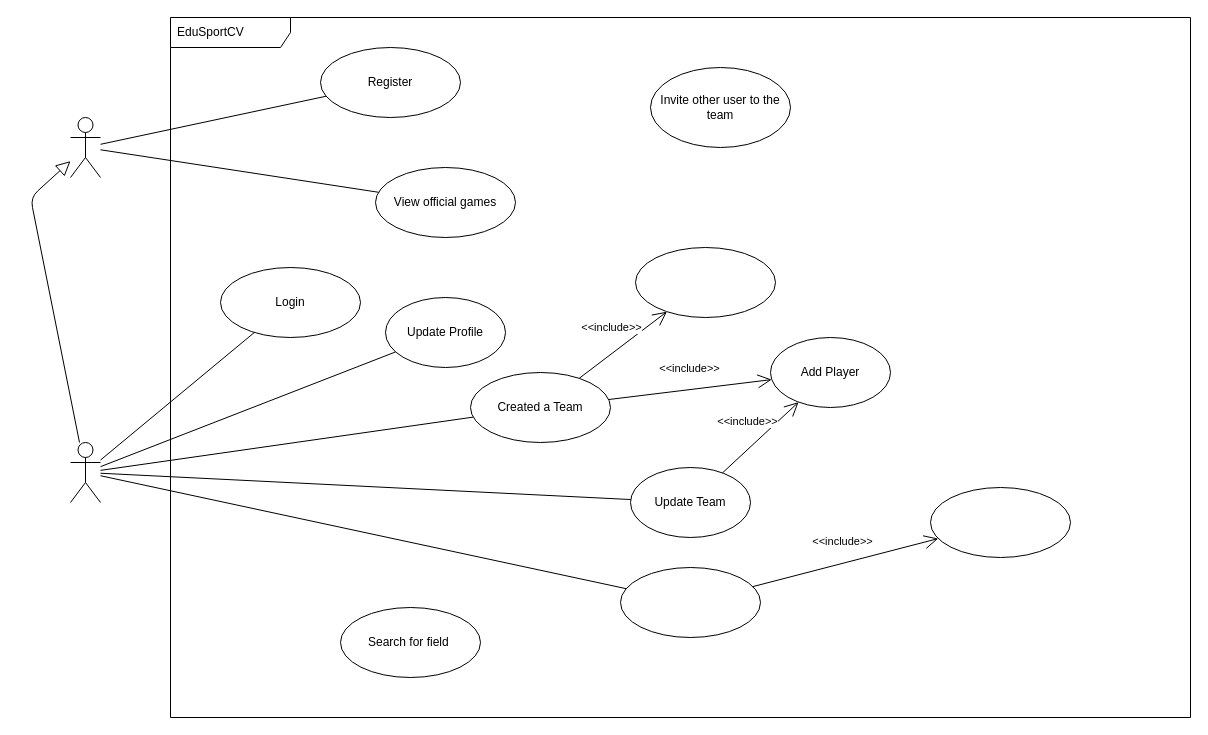
Image size: 1208x735. Some labels were removed from this diagram. Here are the shapes that lost their labels. From the top down, the box of each, then its label:
(70, 116, 100, 178): A01-Public
(634, 246, 776, 318): Choose Sport
(70, 442, 100, 502): A02-Private
(930, 486, 1070, 558): Register opening hours
(620, 566, 760, 638): Register Field
